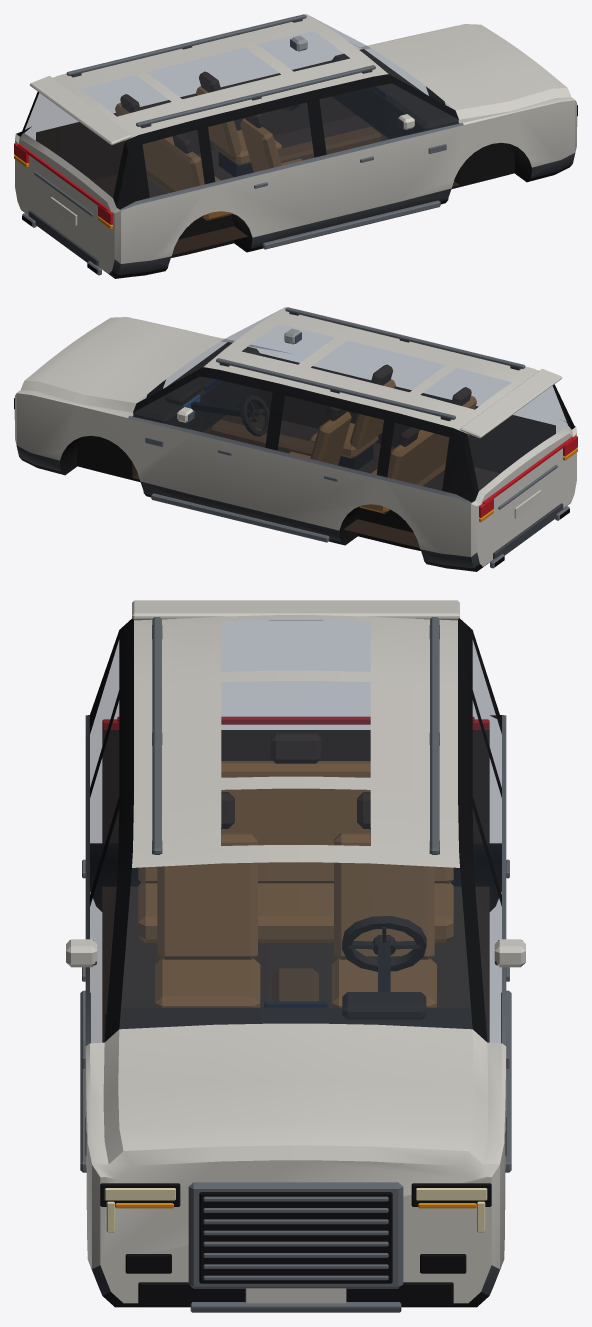
The model's file is titan.glb.
3 views of the same model, one above another, from view 1: azimuth 30°, elevation 25°; view 2: azimuth 150°, elevation 25°; view 3: azimuth 270°, elevation 25° (orthographic). The views are drawn at different scales.
Visible parts, largest first — view 1: Body, Glass, Interior, Details, TailLights; view 2: Body, Glass, Interior, Details, TailLights; view 3: Body, Glass, Interior, Details, HeadLights, TailLights.
Part boxes in pixels (x1,y1,x2,y2): Body: [15, 14, 577, 278]; Glass: [24, 16, 461, 197]; Interior: [36, 49, 459, 254]; Details: [30, 14, 375, 145]; TailLights: [14, 143, 112, 224]; Body: [14, 307, 576, 571]; Glass: [130, 309, 567, 490]; Interior: [132, 342, 555, 547]; Details: [216, 307, 561, 438]; TailLights: [479, 436, 577, 517]; Body: [66, 615, 525, 1312]; Glass: [90, 620, 501, 1042]; Interior: [102, 730, 489, 1042]; Details: [132, 600, 459, 854]; HeadLights: [104, 1188, 487, 1232]; TailLights: [102, 716, 489, 729].
Bounding box in the file's own units: 5.2 × 1.51 × 2.19.
